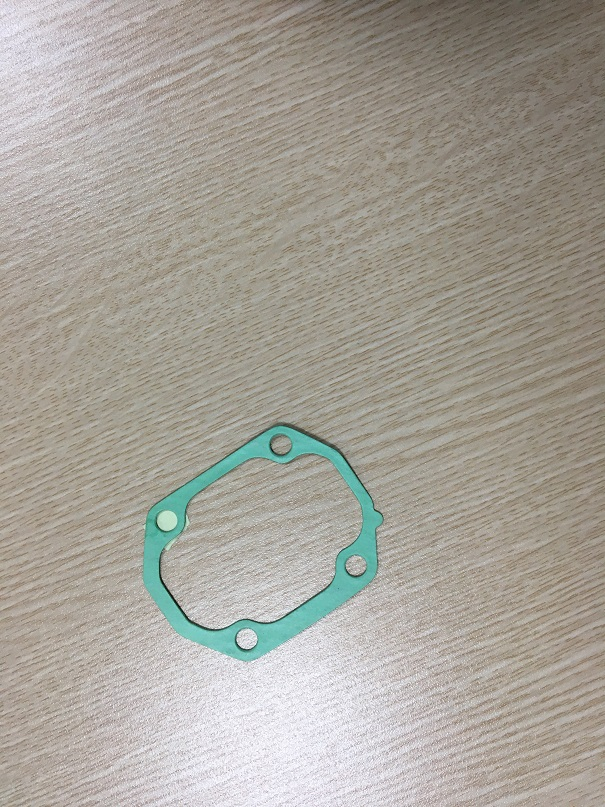type2: (135, 420, 393, 672)
